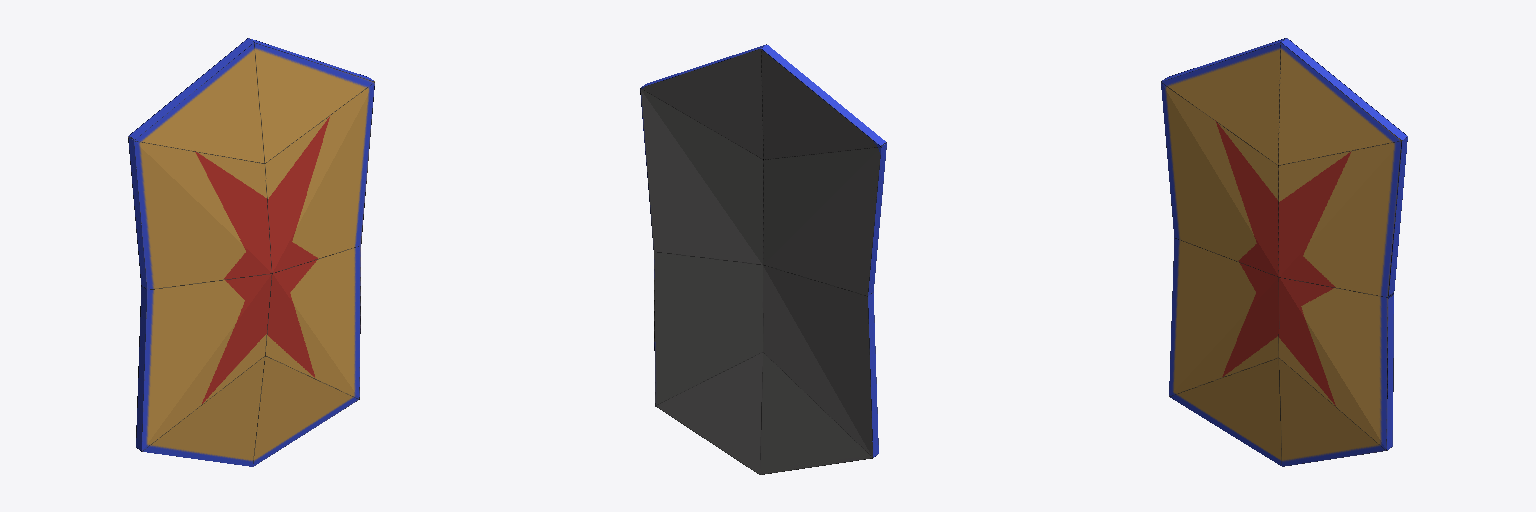
3 renders of one model, left to right at view 1: azimuth 30°, elevation 25°; view 2: azimuth 150°, elevation 25°; view 3: azimuth 330°, elevation 25°, orthographic.
Parts seen in each view (by area): view 1: Plane; view 2: Plane; view 3: Plane.
Part boxes in pixels (x1,y1,x2,y2): Plane: (128, 38, 374, 466); Plane: (640, 44, 886, 474); Plane: (1161, 38, 1407, 466).
Size of the model in its own units: 1.6 by 2.69 by 0.1969.
Materials: 1 (1 with a texture image).